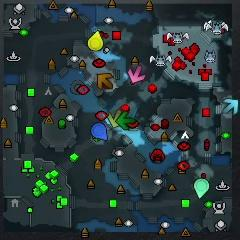p1: (91, 122, 107, 141)
p2: (194, 178, 209, 198)
p4: (88, 31, 104, 51)
x1: (128, 66, 146, 83)
x2: (107, 109, 122, 129)
x3: (222, 98, 239, 115)
x4: (116, 111, 135, 130)
x5: (97, 73, 113, 90)
